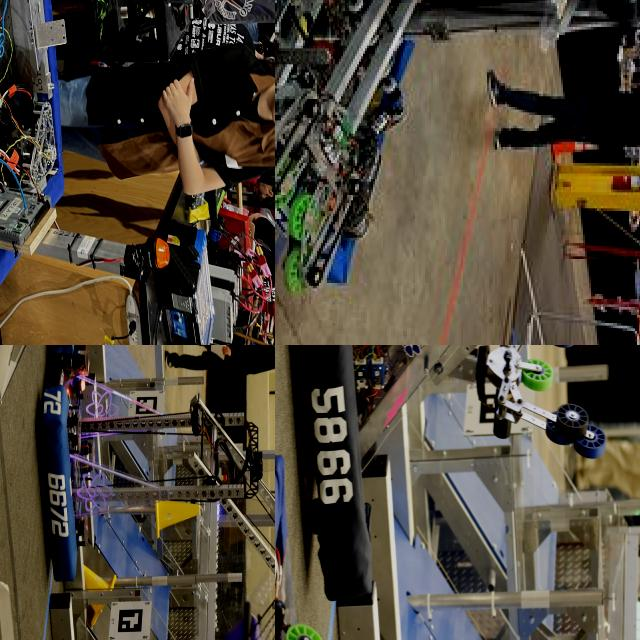FRC-Robots: (275, 0, 640, 302), (277, 345, 640, 594), (36, 345, 275, 640), (0, 0, 98, 345)
